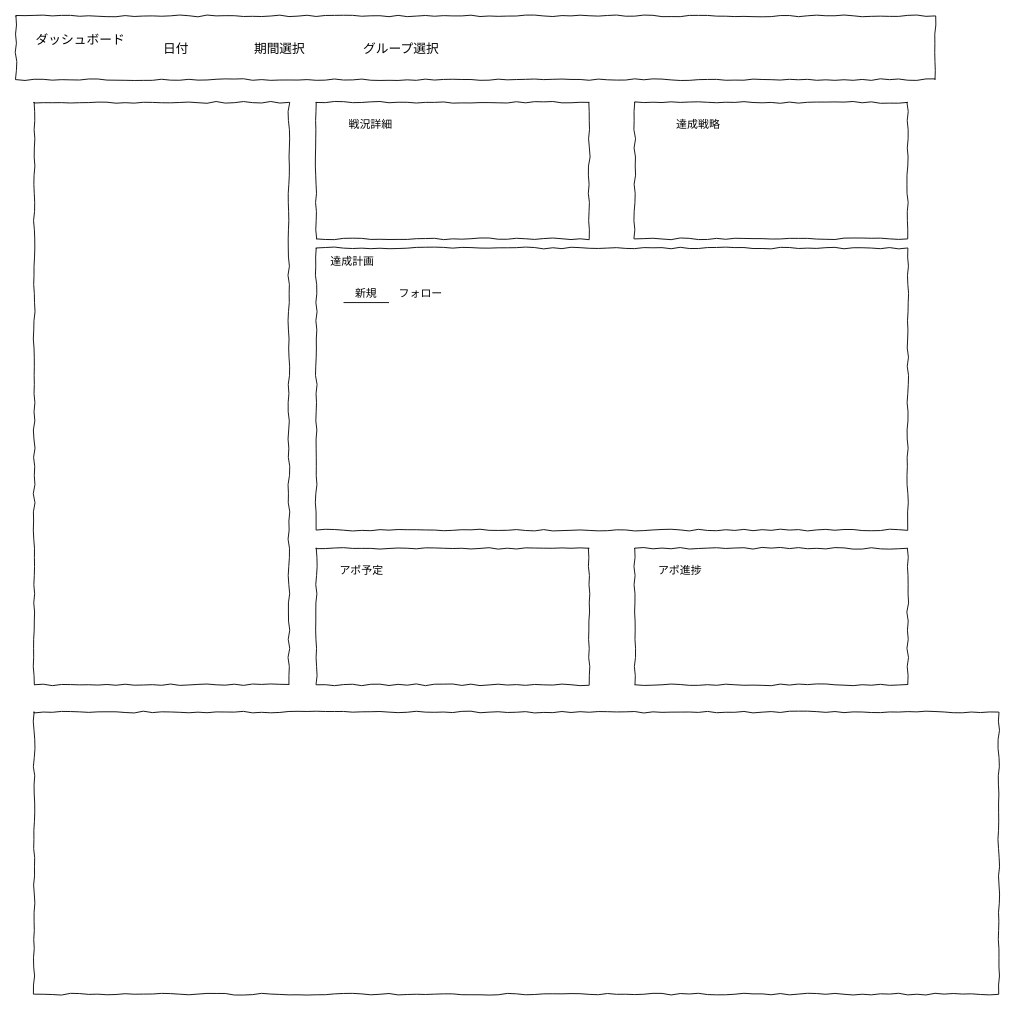
Image size: 1015x1010. Some labels were removed from this diagram. Each missing label, with the box of its shape:
ヨミ状況: (33, 101, 289, 685)
施策: (33, 711, 999, 994)
